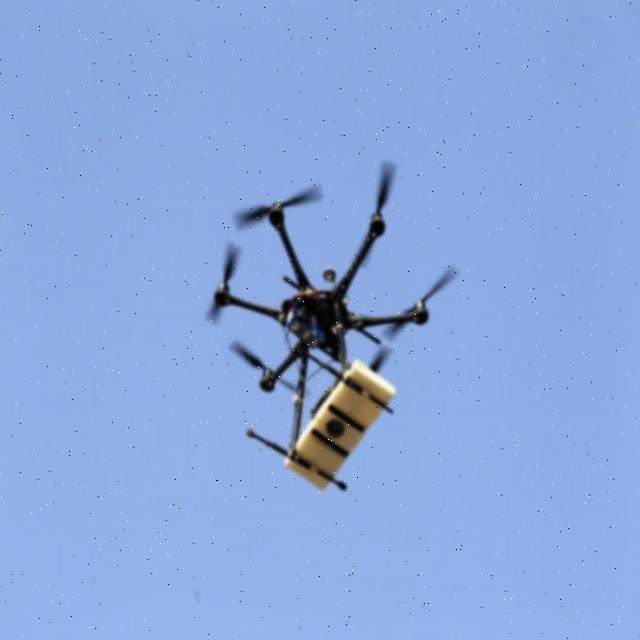UAV: (213, 182, 429, 494)
